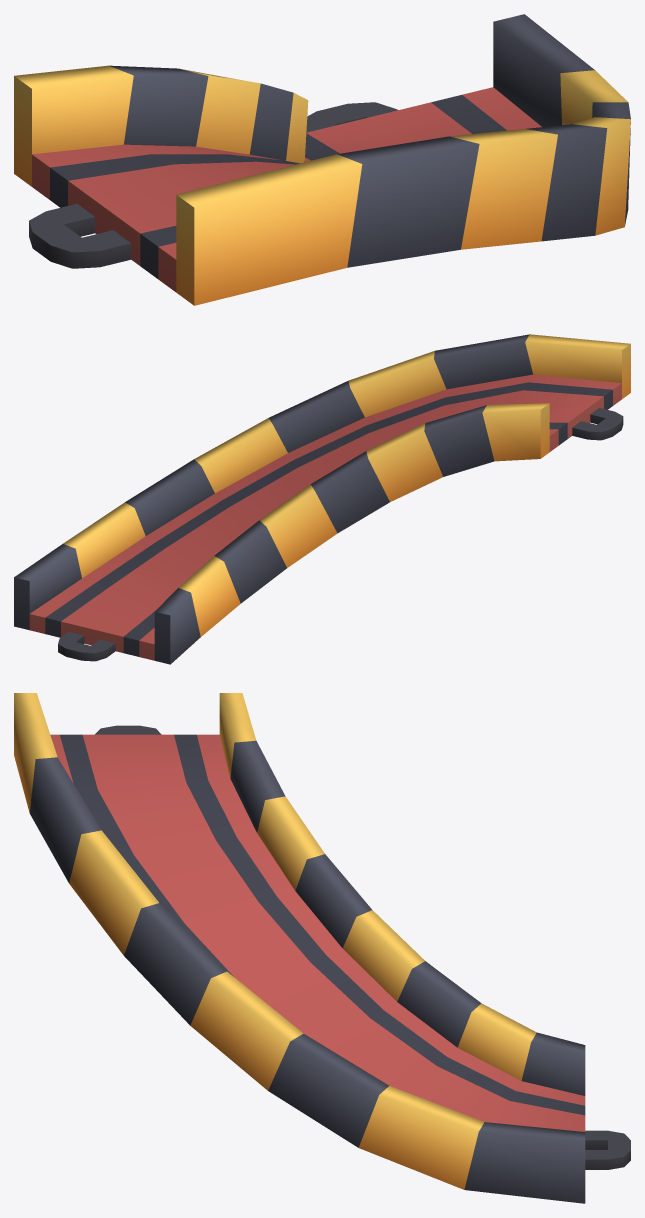
The model's file is track-road-narrow-corner-small-ramp.fbx.
The picture shows the model from 3 angles, top to bottom: view 1: azimuth 30°, elevation 25°; view 2: azimuth 150°, elevation 25°; view 3: azimuth 270°, elevation 25°; orthographic projection. The views are drawn at different scales.
Parts seen in each view (by area): view 1: track-road-narrow-corner-small-ramp; view 2: track-road-narrow-corner-small-ramp; view 3: track-road-narrow-corner-small-ramp.
Boxes of the visible parts, bbox=[...] form: track-road-narrow-corner-small-ramp: bbox=[14, 14, 630, 305]; track-road-narrow-corner-small-ramp: bbox=[14, 334, 630, 664]; track-road-narrow-corner-small-ramp: bbox=[14, 693, 630, 1203].
Size of the model in its own units: 270 by 130 by 270.
